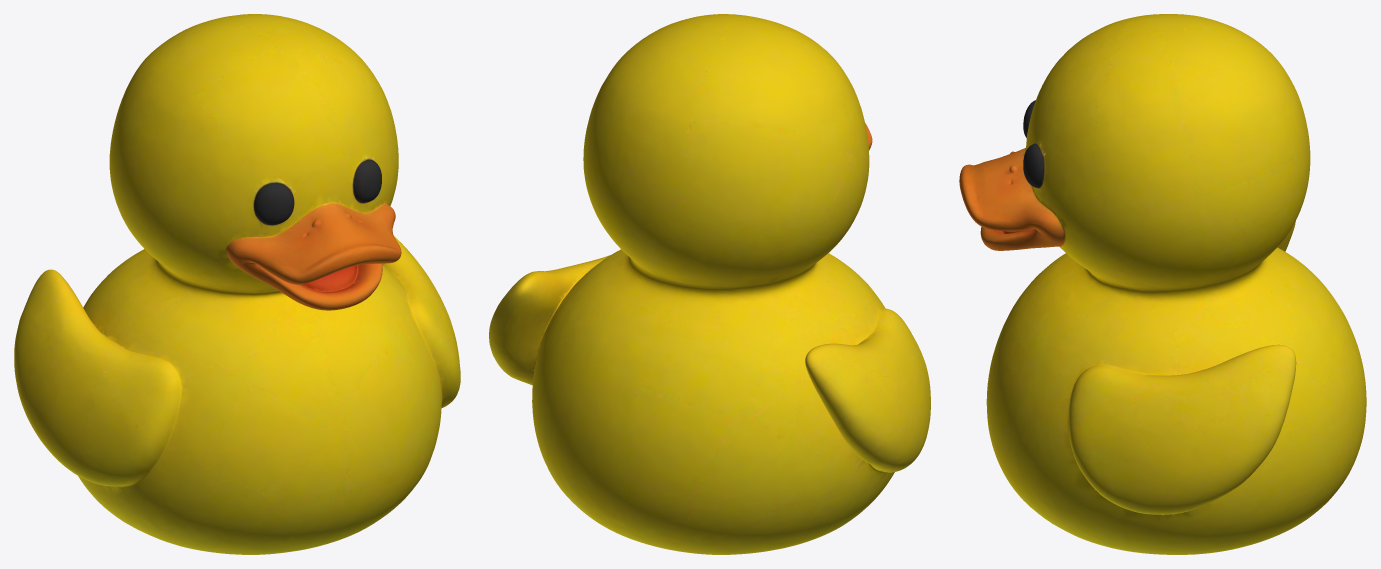
Rendered from a3D-patito.glb.
The picture shows the model from 3 angles, left to right: view 1: azimuth 30°, elevation 25°; view 2: azimuth 150°, elevation 25°; view 3: azimuth 270°, elevation 25°; orthographic projection.
Parts seen in each view (by area): view 1: geometry_0; view 2: geometry_0; view 3: geometry_0.
Boxes of the visible parts, x1,y1,x2,y2 form: geometry_0: (14,14,460,554); geometry_0: (489,14,930,554); geometry_0: (959,14,1366,554).
Bounding box in the file's own units: 1.65 × 1.9 × 1.46.
Materials: 1 (1 with a texture image).
